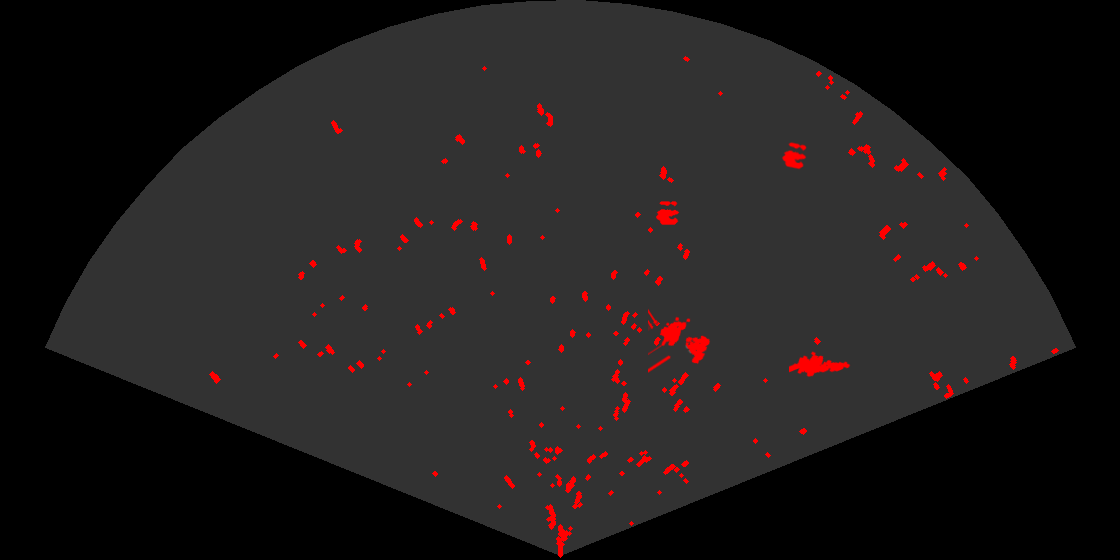ball: (780, 141, 808, 171), (655, 200, 681, 226)
cage: (648, 307, 712, 374)
frogman: (789, 350, 852, 379)
